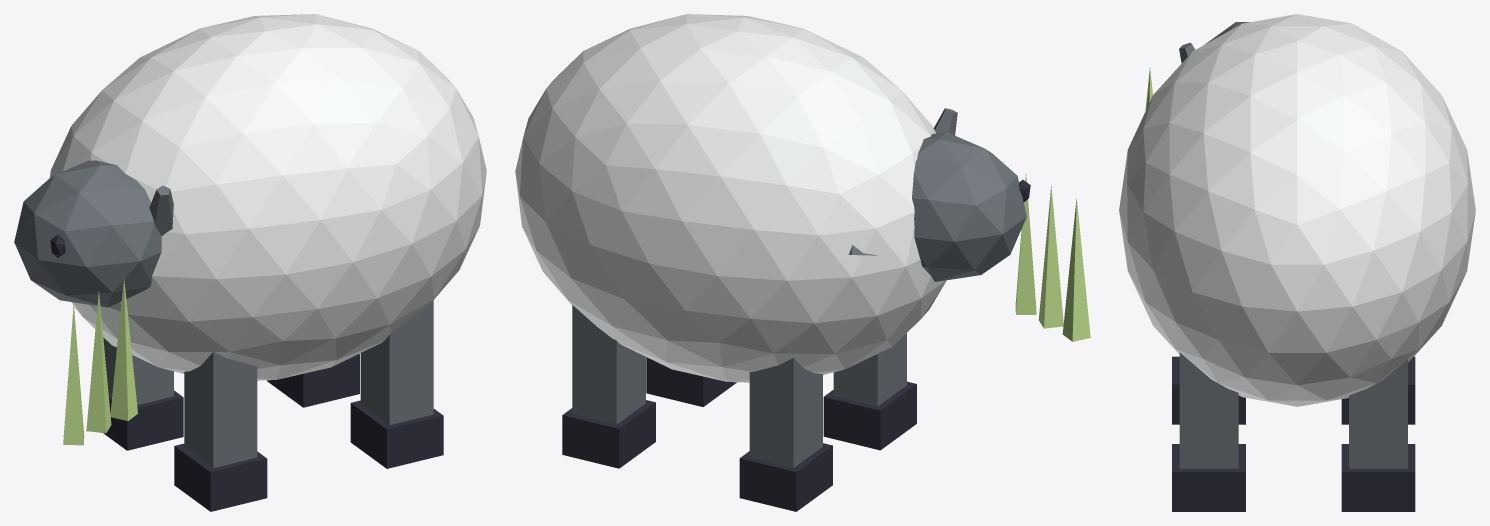
Rendered from sheep.glb.
3 views of the same model, side by side, from view 1: azimuth 30°, elevation 25°; view 2: azimuth 150°, elevation 25°; view 3: azimuth 270°, elevation 25° (orthographic).
Parts seen in each view (by area): view 1: Sheep_WoolBody, Sheep_Face, Sheep_Leg_1, Sheep_Leg_3, Sheep_Hoof_3, Sheep_Hoof_1, Sheep_Hoof_0, Sheep_Hoof_2, Sheep_GrassBlade_2, Sheep_Leg_0, Sheep_GrassBlade_1, Sheep_GrassBlade_0 (+1 smaller); view 2: Sheep_WoolBody, Sheep_Face, Sheep_Leg_0, Sheep_Leg_2, Sheep_Hoof_0, Sheep_Hoof_2, Sheep_Hoof_1, Sheep_Leg_1, Sheep_Hoof_3, Sheep_GrassBlade_0, Sheep_GrassBlade_1, Sheep_GrassBlade_2; view 3: Sheep_WoolBody, Sheep_Leg_3, Sheep_Leg_2, Sheep_Hoof_2, Sheep_Hoof_3, Sheep_Hoof_1, Sheep_Hoof_0.
Boxes of the visible parts, x1,y1,x2,y2 form: Sheep_WoolBody: (50, 14, 486, 380); Sheep_Face: (14, 160, 161, 307); Sheep_Leg_1: (184, 351, 257, 468); Sheep_Leg_3: (360, 300, 433, 425); Sheep_Hoof_3: (350, 400, 443, 468); Sheep_Hoof_1: (174, 443, 267, 511); Sheep_Hoof_0: (103, 390, 183, 450); Sheep_Hoof_2: (267, 354, 359, 407); Sheep_GrassBlade_2: (110, 278, 137, 420); Sheep_Leg_0: (103, 337, 173, 404); Sheep_GrassBlade_1: (86, 291, 111, 433); Sheep_GrassBlade_0: (63, 303, 84, 445); Sheep_WoolBody: (515, 14, 946, 382); Sheep_Face: (912, 132, 1026, 281); Sheep_Leg_0: (749, 357, 822, 467); Sheep_Leg_2: (572, 305, 645, 424); Sheep_Hoof_0: (739, 443, 832, 511); Sheep_Hoof_2: (562, 400, 655, 468); Sheep_Hoof_1: (823, 381, 916, 450); Sheep_Leg_1: (833, 333, 906, 406); Sheep_Hoof_3: (646, 357, 736, 406); Sheep_GrassBlade_0: (1062, 199, 1090, 341); Sheep_GrassBlade_1: (1038, 186, 1063, 328); Sheep_GrassBlade_2: (1015, 173, 1036, 314); Sheep_WoolBody: (1119, 14, 1475, 406); Sheep_Leg_3: (1179, 352, 1238, 468); Sheep_Leg_2: (1349, 359, 1407, 468); Sheep_Hoof_2: (1341, 444, 1415, 511); Sheep_Hoof_3: (1172, 444, 1245, 511); Sheep_Hoof_1: (1172, 356, 1245, 424); Sheep_Hoof_0: (1341, 356, 1415, 424).
Size of the model in its own units: 1.53 by 1.24 by 0.968.
